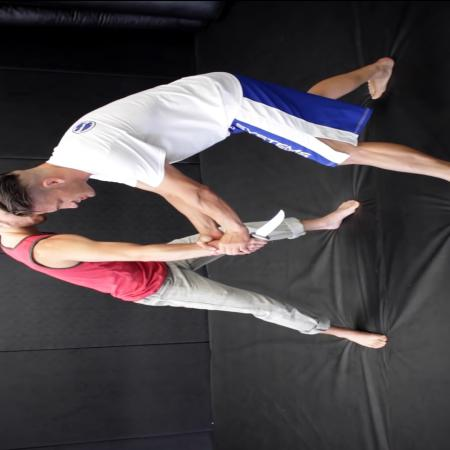long weapon: (246, 205, 288, 252)
